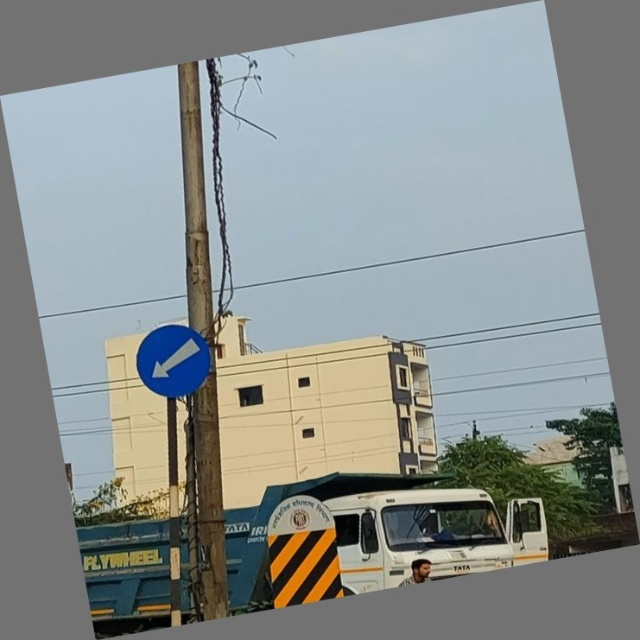R.301e: (127, 318, 218, 409)
